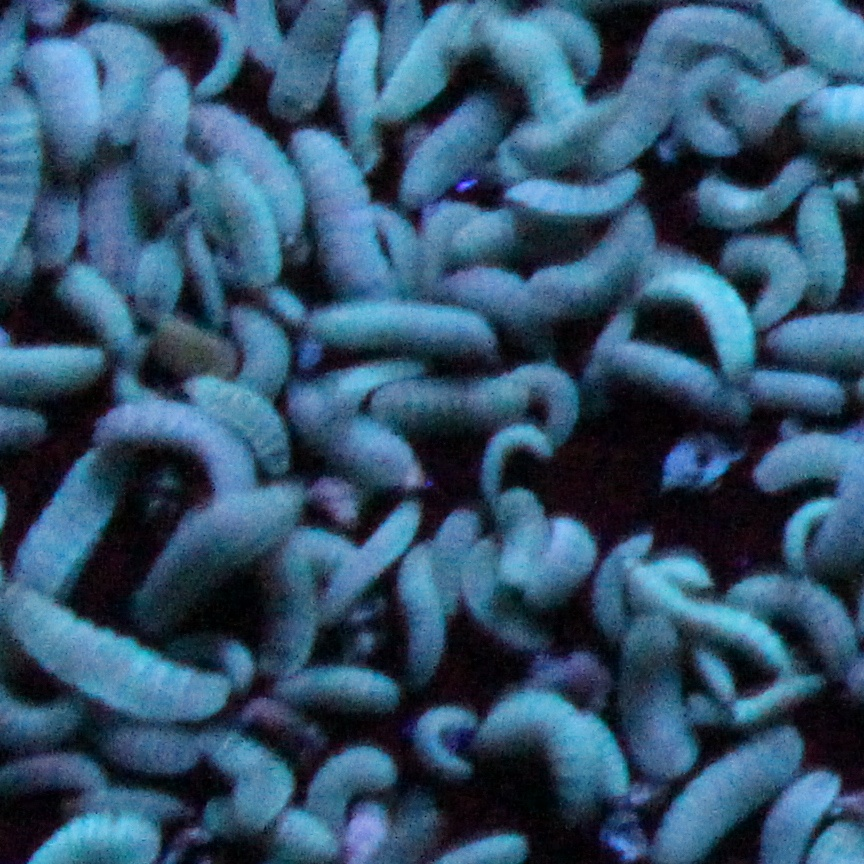larve: (4, 576, 221, 716), (141, 480, 306, 625), (10, 447, 117, 606), (624, 561, 786, 664), (290, 128, 387, 295), (190, 105, 304, 234), (486, 684, 590, 819), (97, 406, 254, 487), (727, 575, 850, 672), (609, 337, 743, 424), (620, 615, 693, 770), (480, 24, 595, 116), (649, 274, 754, 373), (326, 496, 417, 609), (382, 5, 469, 116), (408, 94, 495, 202), (190, 731, 283, 831), (311, 300, 499, 349), (188, 376, 287, 469), (538, 218, 650, 299), (88, 21, 154, 153), (640, 7, 776, 71), (338, 2, 385, 179), (22, 39, 88, 164), (467, 534, 535, 650), (298, 407, 406, 480), (204, 169, 275, 280), (292, 357, 411, 423), (509, 99, 622, 168), (359, 375, 518, 423), (593, 64, 665, 168), (716, 236, 806, 317), (138, 69, 186, 220), (511, 164, 649, 212), (85, 153, 134, 285), (1, 100, 37, 275), (679, 64, 748, 155), (740, 63, 828, 134), (701, 166, 803, 226), (686, 678, 820, 723), (53, 263, 129, 338), (1, 344, 98, 402), (230, 305, 287, 400), (256, 672, 408, 707), (533, 517, 594, 604), (1, 683, 86, 745), (511, 364, 576, 445), (404, 540, 441, 682), (444, 264, 541, 318), (755, 436, 855, 488), (804, 180, 843, 308), (448, 207, 537, 263), (593, 533, 645, 626), (98, 721, 193, 770), (581, 313, 639, 392), (174, 637, 256, 692), (176, 228, 223, 322), (482, 426, 545, 496), (305, 745, 396, 793), (494, 492, 536, 596), (192, 7, 244, 91), (361, 211, 419, 286), (418, 695, 474, 771), (582, 710, 627, 803), (537, 10, 597, 73), (737, 376, 848, 408), (279, 804, 339, 863), (1, 750, 113, 781), (442, 503, 473, 614), (65, 784, 189, 810), (138, 238, 181, 310), (45, 186, 79, 276), (694, 646, 735, 706), (651, 552, 709, 587)
